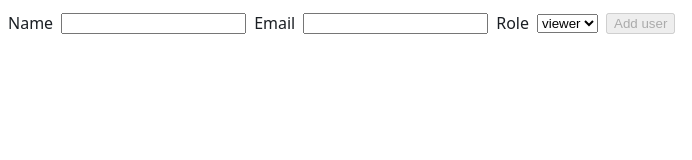
Test: <AddUserForm> › dispatches addUser and clears the form
Type "Margaret Hamilton" into the field labelled "Name" at (154, 23), box [61, 12, 246, 34]
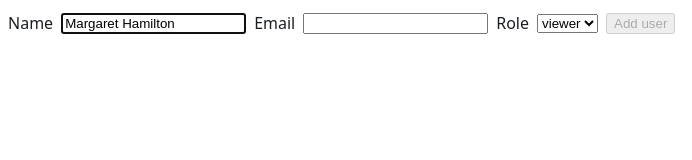
Type "maggie@acme.io" into the field labelled "Email" at (396, 23), box [303, 12, 488, 34]
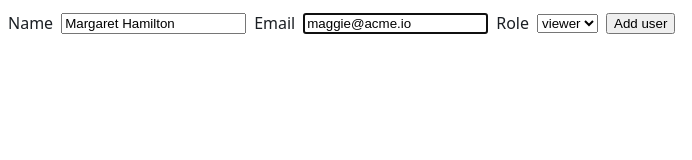
Select "editor" in the dropdown labelled "Role" at (568, 23), box [537, 14, 598, 32]
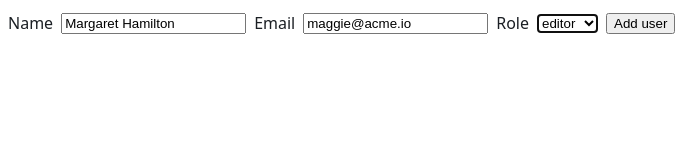
Click the button "Add user" at (641, 23), box [606, 12, 675, 34]
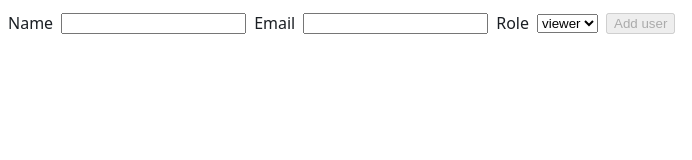
Now the field labelled "Name" is empty, box [61, 12, 246, 34]
